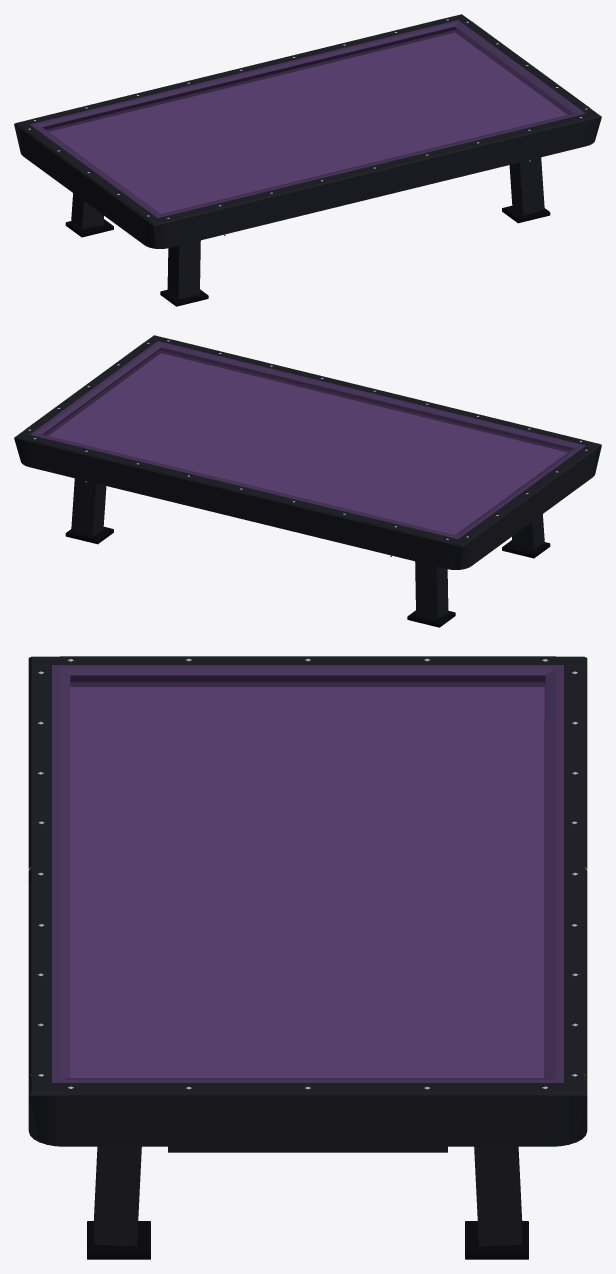
Rendered from table-threecushion-10-chinese-violet.glb.
3 views of the same model, one above another, from view 1: azimuth 30°, elevation 25°; view 2: azimuth 150°, elevation 25°; view 3: azimuth 270°, elevation 25° (orthographic). The views are drawn at different scales.
Parts seen in each view (by area): view 1: table-threecushion-10-chinese-violet, break-builder-table-support; view 2: table-threecushion-10-chinese-violet, break-builder-table-support; view 3: table-threecushion-10-chinese-violet, break-builder-table-support.
Boxes of the visible parts, x1,y1,x2,y2 form: table-threecushion-10-chinese-violet: (14, 14, 601, 248); break-builder-table-support: (65, 157, 550, 306); table-threecushion-10-chinese-violet: (14, 335, 601, 569); break-builder-table-support: (65, 478, 550, 627); table-threecushion-10-chinese-violet: (28, 656, 587, 1146); break-builder-table-support: (87, 1146, 528, 1259).
Bounding box in the file's own units: 3.28 × 0.7156 × 1.77.
